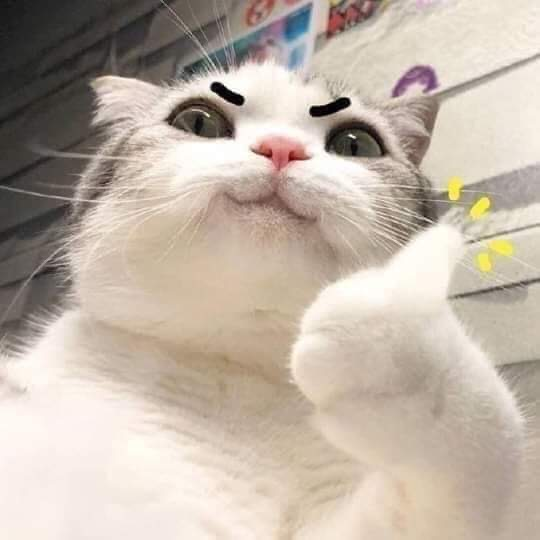cat: (25, 57, 528, 538)
